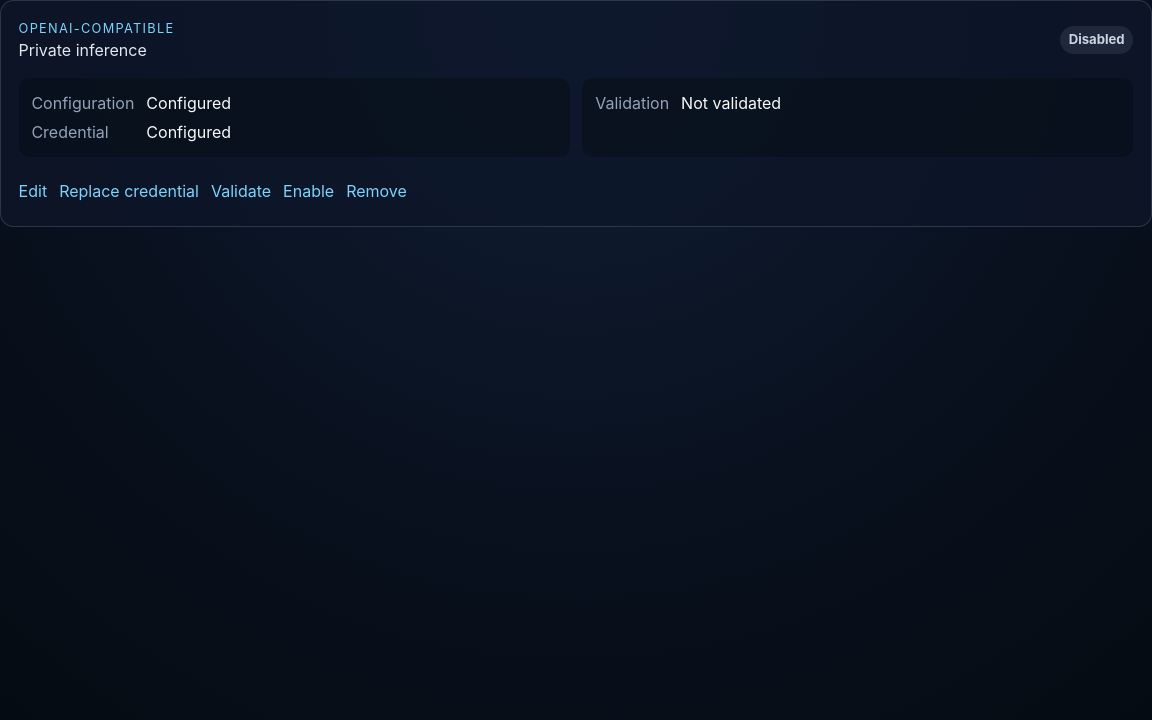
Test: ProviderCard › warns that changing a provider URL clears an existing credential
Click the button "Edit".
click(33, 191)  # box [19,173,47,208]
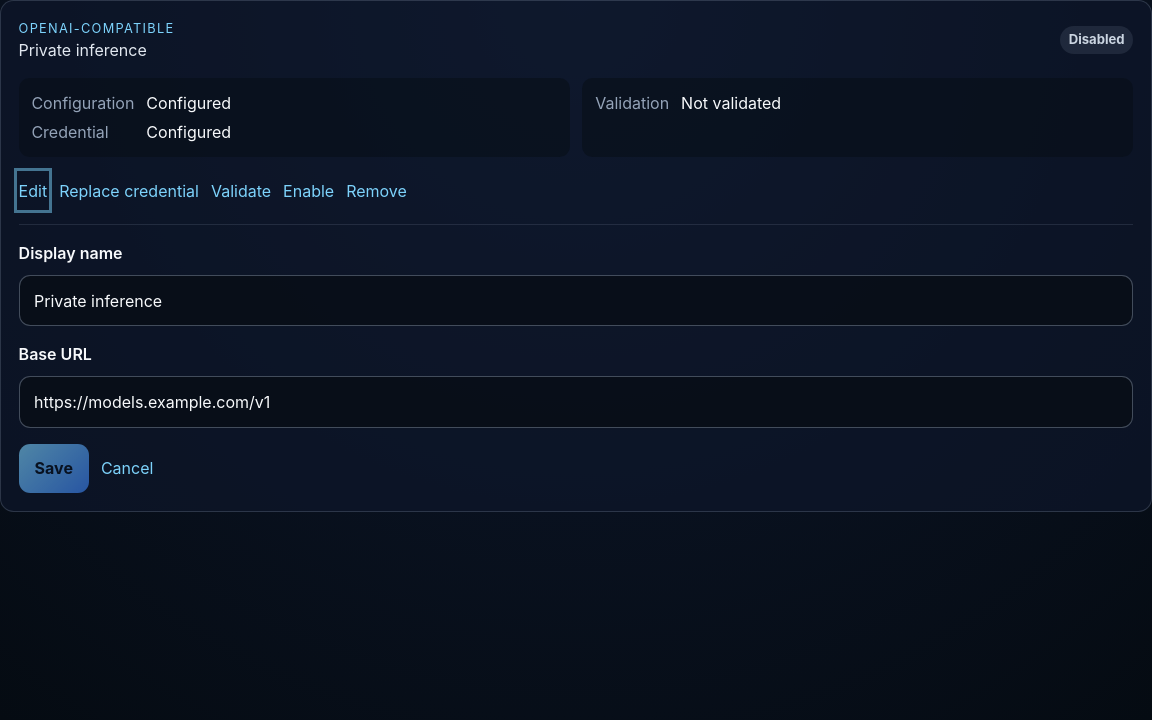
Type "/changed" into the field labelled "Base URL".
click(576, 402); type("/changed")  # box [19,376,1133,428]
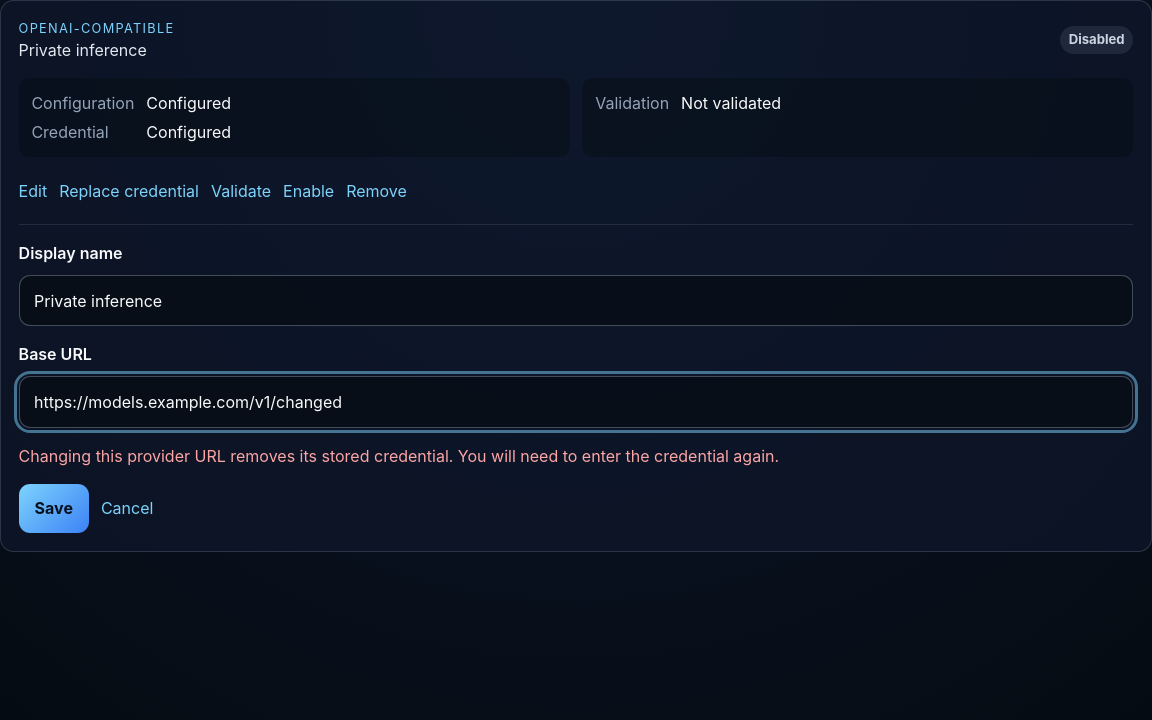
Check: the text "Changing this provider URL removes its stored credential" is shown, box [19,446,779,466]
